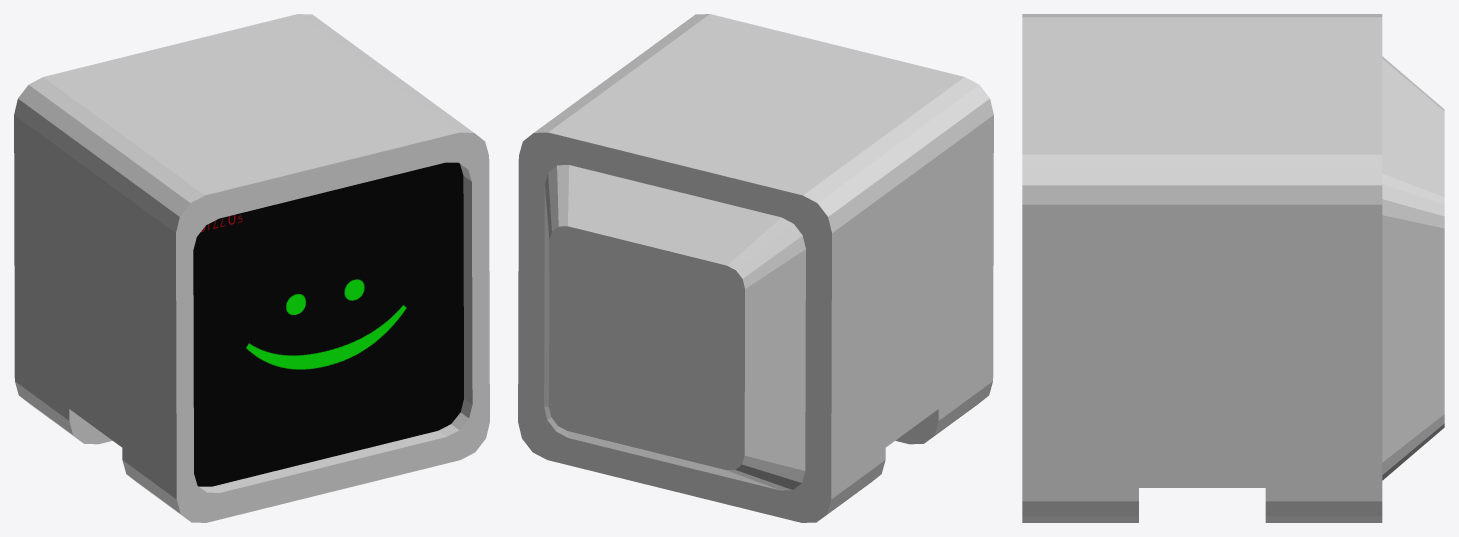
Rendered from fixed_billy.fbx.
3 views of the same model, side by side, from view 1: azimuth 30°, elevation 25°; view 2: azimuth 150°, elevation 25°; view 3: azimuth 270°, elevation 25° (orthographic). The views are drawn at different scales.
Visible parts, largest first — view 1: Cube; view 2: Cube; view 3: Cube.
Boxes of the visible parts, x1,y1,x2,y2 form: Cube: [14, 14, 489, 522]; Cube: [518, 14, 993, 522]; Cube: [1022, 14, 1444, 522].
Size of the model in its own units: 201 by 201 by 210.
